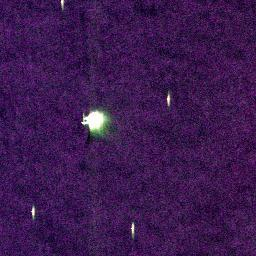Ship: (81, 107, 107, 130), (128, 221, 138, 237), (28, 205, 39, 219), (164, 92, 173, 106), (58, 0, 67, 12)
